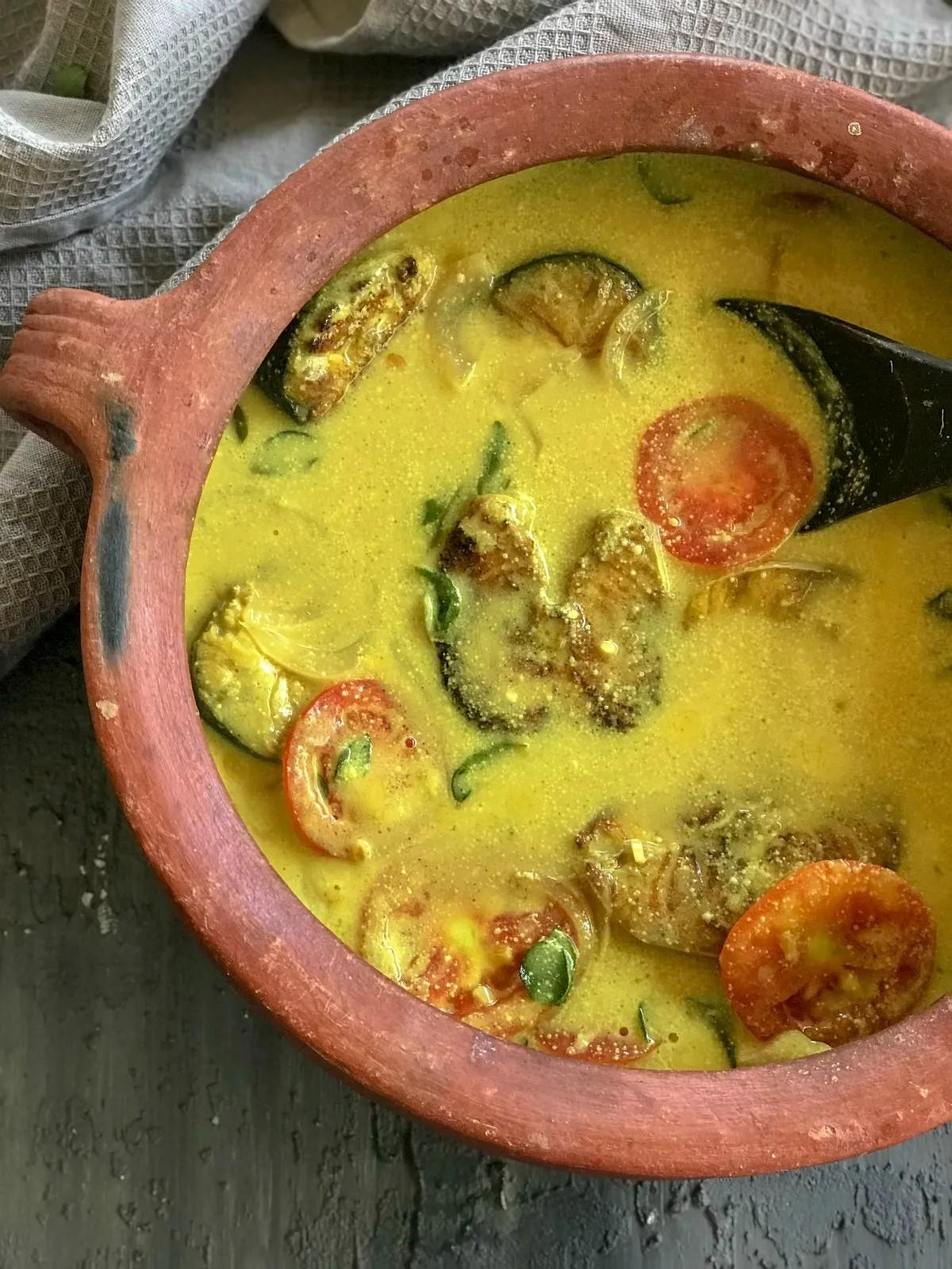FishCurry: (186, 143, 952, 1069)
